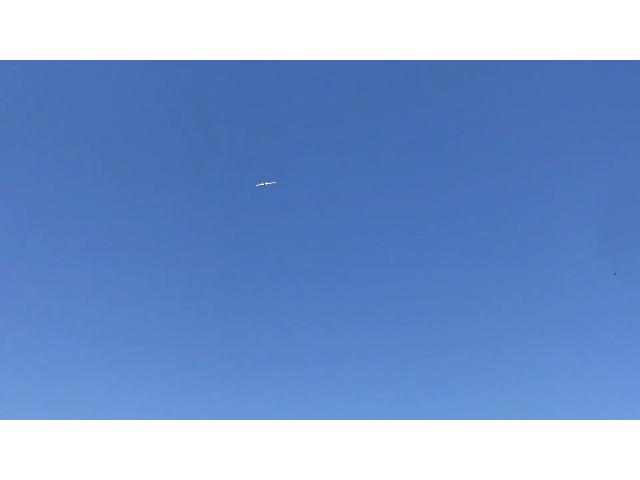Anti-Drone: (249, 166, 287, 194)
